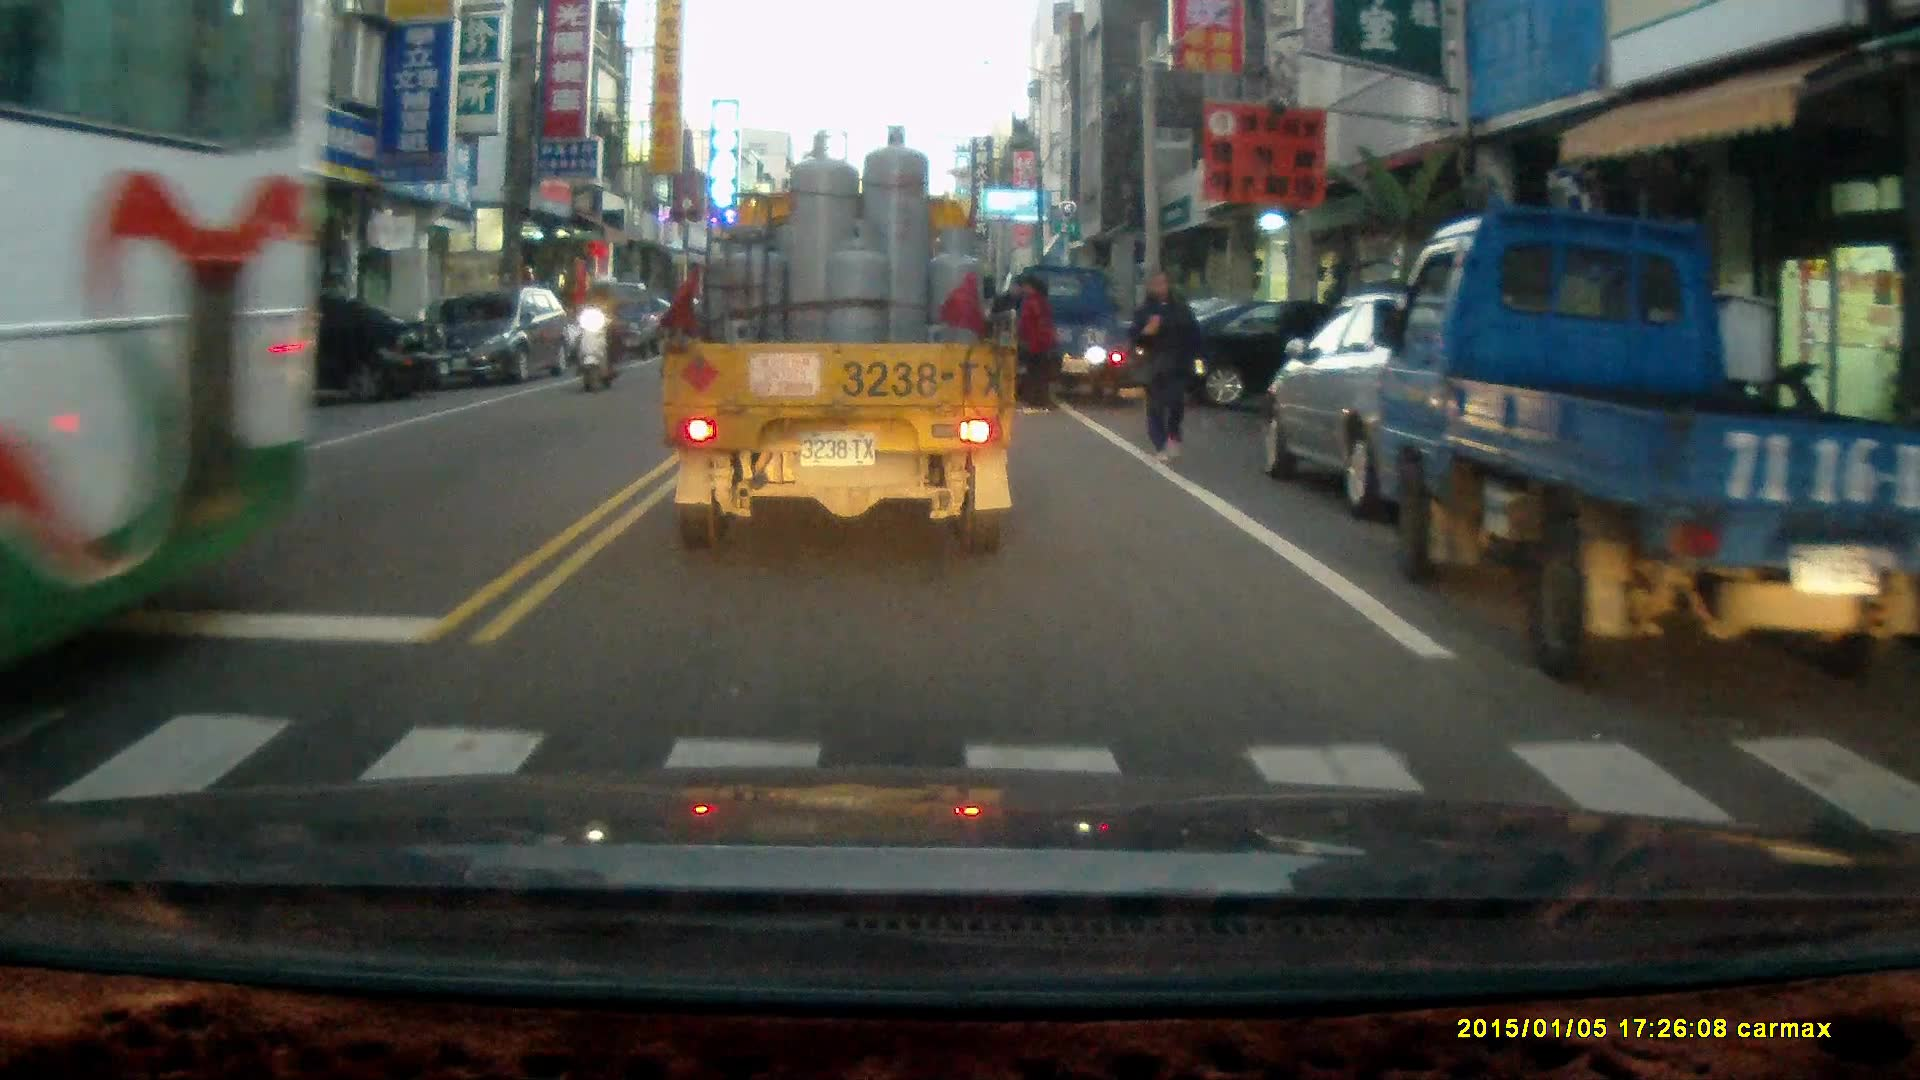pedestrian: (1128, 268, 1218, 463), (1015, 273, 1052, 408)
rider: (570, 268, 623, 390)
vehicle: (1370, 202, 1920, 685), (1, 2, 309, 662), (663, 123, 1020, 557), (1256, 285, 1579, 525), (1156, 294, 1424, 419), (1001, 261, 1144, 404), (433, 286, 574, 390), (578, 278, 674, 363)
